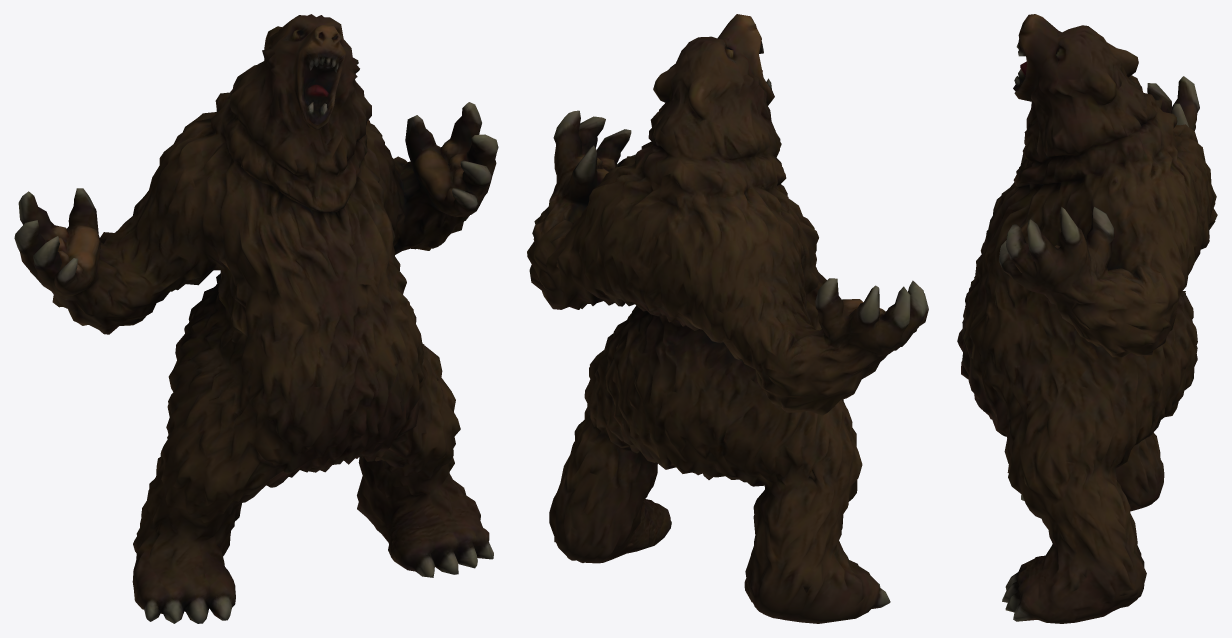
Rendered from Bear Feral.glb.
3 views of the same model, side by side, from view 1: azimuth 30°, elevation 25°; view 2: azimuth 150°, elevation 25°; view 3: azimuth 270°, elevation 25° (orthographic). The views are drawn at different scales.
Visible parts, largest first — view 1: feral-bear-scaled; view 2: feral-bear-scaled; view 3: feral-bear-scaled.
Boxes of the visible parts, x1,y1,x2,y2 form: feral-bear-scaled: [14, 14, 498, 623]; feral-bear-scaled: [527, 14, 928, 623]; feral-bear-scaled: [957, 14, 1217, 623].
Bounding box in the file's own units: 0.6989 × 0.8992 × 0.3982.
Materials: 1 (1 with a texture image).
